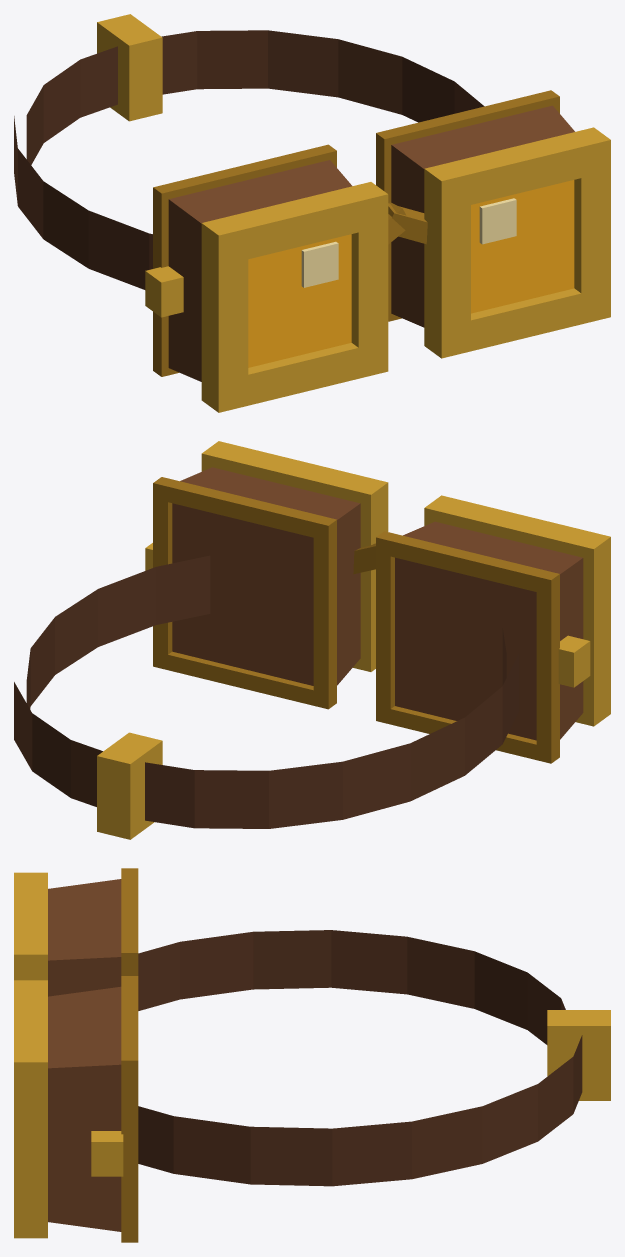
Rendered from flight-goggles-blocky.glb.
The picture shows the model from 3 angles, top to bottom: view 1: azimuth 30°, elevation 25°; view 2: azimuth 150°, elevation 25°; view 3: azimuth 270°, elevation 25°; orthographic projection.
Parts seen in each view (by area): view 1: flight-goggles; view 2: flight-goggles; view 3: flight-goggles.
Boxes of the visible parts, x1,y1,x2,y2 form: flight-goggles: (14,14,610,412); flight-goggles: (14,441,610,839); flight-goggles: (14,868,610,1242).
Bounding box in the file's own units: 0.154 × 0.063 × 0.1873.
